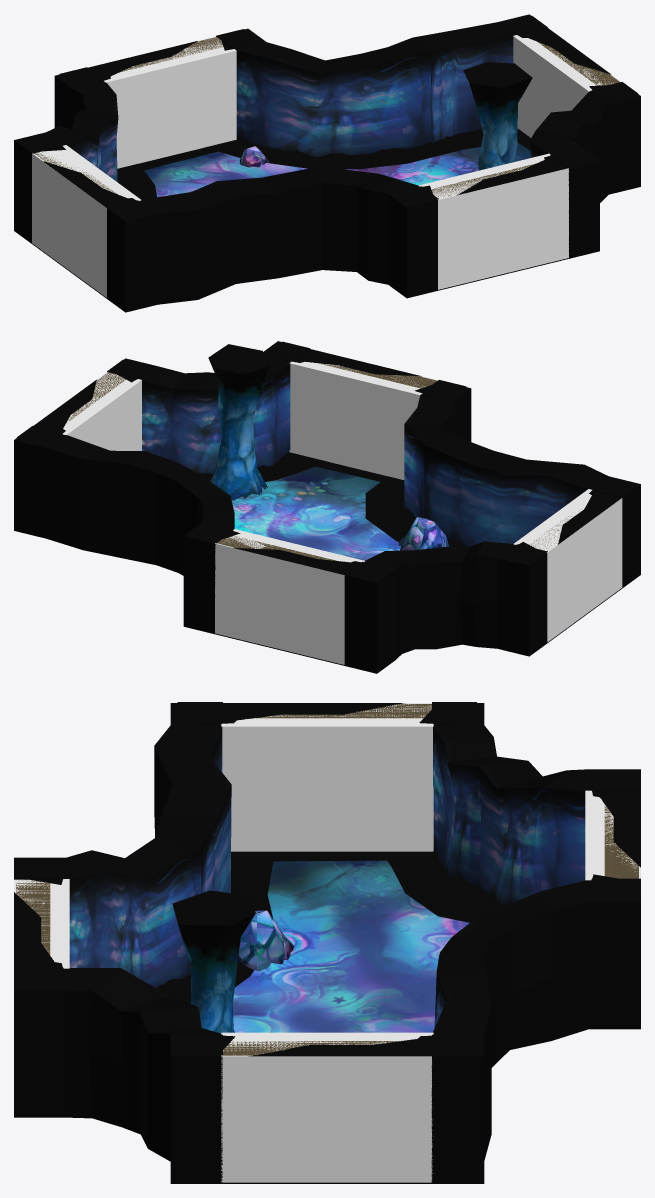
Rendered from Dungeon_052_RoadX_001.fbx.
The picture shows the model from 3 angles, top to bottom: view 1: azimuth 30°, elevation 25°; view 2: azimuth 150°, elevation 25°; view 3: azimuth 270°, elevation 25°; orthographic projection. The views are drawn at different scales.
Visible parts, largest first — view 1: Dan1, DoorWay_NavMask (1) (×4), Dun_011_Door_002_old (×4), Dan002_02, Dan1_shadow, Dungeon_011_Object_010, Dun_011_Door_003_WarpRoom (×3), Dun_011_Door_002_shadow, Dungeon_011_Object_013; view 2: Dan1, DoorWay_NavMask (1) (×4), Dan002_02, Dun_011_Door_002_old (×4), Dungeon_011_Object_010, Dan1_shadow, Dun_011_Door_003_WarpRoom (×3), Dungeon_011_Object_012, Dun_011_Door_002 (×2), Dun_011_Door_002_shadow; view 3: Dan1, DoorWay_NavMask (1) (×4), Dan002_02, Dun_011_Door_002_old (×4), Dan1_shadow, Dungeon_011_Object_010, Dun_011_Door_003_WarpRoom (×4), Dun_011_Door_002 (×3), Dungeon_011_Object_012, Dun_011_Door_002_shadow.
Boxes of the visible parts, x1,y1,x2,y2 form: Dan1: (14, 14, 640, 312); DoorWay_NavMask (1) (×4): (32, 35, 621, 297); Dun_011_Door_002_old (×4): (17, 15, 637, 219); Dan002_02: (144, 142, 531, 197); Dan1_shadow: (117, 128, 530, 199); Dungeon_011_Object_010: (463, 62, 532, 170); Dun_011_Door_003_WarpRoom (×3): (120, 37, 619, 198); Dun_011_Door_002_shadow: (139, 147, 217, 170); Dungeon_011_Object_013: (239, 146, 269, 167); Dan1: (14, 341, 640, 673); DoorWay_NavMask (1) (×4): (62, 361, 622, 664); Dan002_02: (231, 466, 400, 560); Dun_011_Door_002_old (×4): (17, 341, 637, 581); Dungeon_011_Object_010: (208, 344, 268, 500); Dan1_shadow: (198, 451, 465, 546); Dun_011_Door_003_WarpRoom (×3): (68, 363, 436, 561); Dungeon_011_Object_012: (398, 516, 449, 550); Dun_011_Door_002 (×2): (206, 478, 637, 665); Dun_011_Door_002_shadow: (315, 462, 387, 481); Dan1: (14, 703, 640, 1183); DoorWay_NavMask (1) (×4): (14, 703, 640, 1182); Dan002_02: (232, 860, 469, 1032); Dun_011_Door_002_old (×4): (14, 702, 640, 1182); Dan1_shadow: (156, 851, 512, 1003); Dungeon_011_Object_010: (172, 890, 255, 1033); Dun_011_Door_003_WarpRoom (×4): (16, 704, 638, 1055); Dun_011_Door_002 (×3): (177, 702, 640, 1183); Dungeon_011_Object_012: (238, 910, 294, 971); Dun_011_Door_002_shadow: (273, 851, 386, 861).
Size of what is drawn, in the model's own units: 12 by 2.96 by 9.
